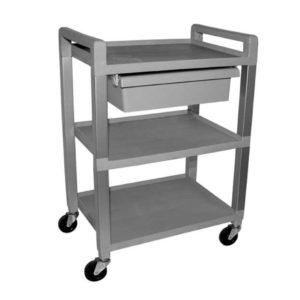Carts: (57, 24, 259, 282)
